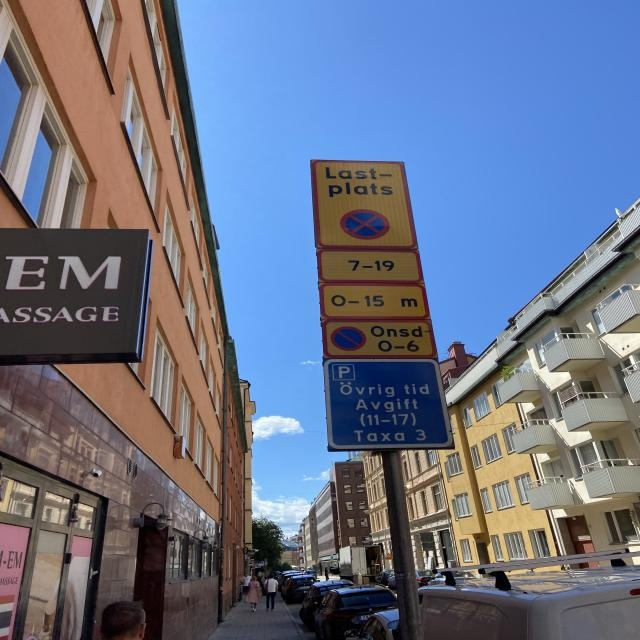lastplats: (310, 157, 418, 250)
